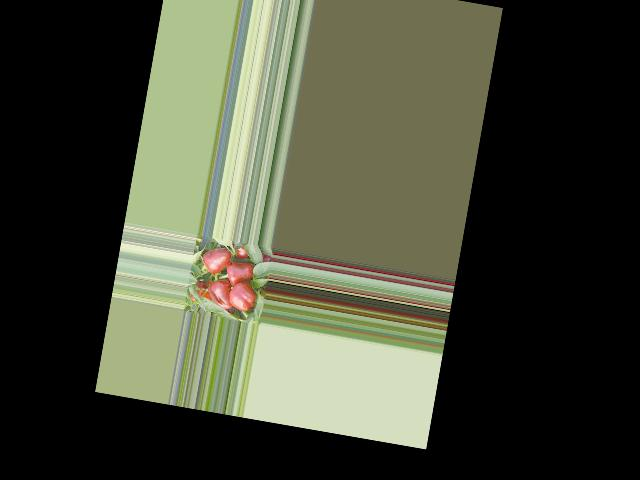bell_pepper: (226, 273, 258, 315)
